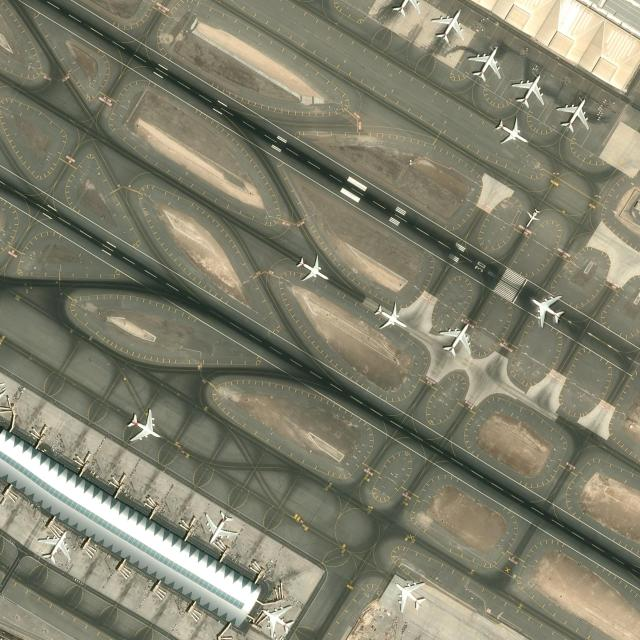1: (389, 0, 424, 17)
aircraft: (430, 5, 466, 45), (467, 44, 503, 82), (203, 508, 239, 546), (124, 408, 161, 444), (528, 291, 566, 326), (510, 70, 544, 108), (36, 528, 72, 563), (556, 96, 590, 133), (439, 319, 472, 357), (394, 576, 426, 614), (258, 604, 296, 636), (370, 301, 406, 332), (294, 253, 330, 284), (494, 114, 528, 145), (526, 206, 542, 227)
